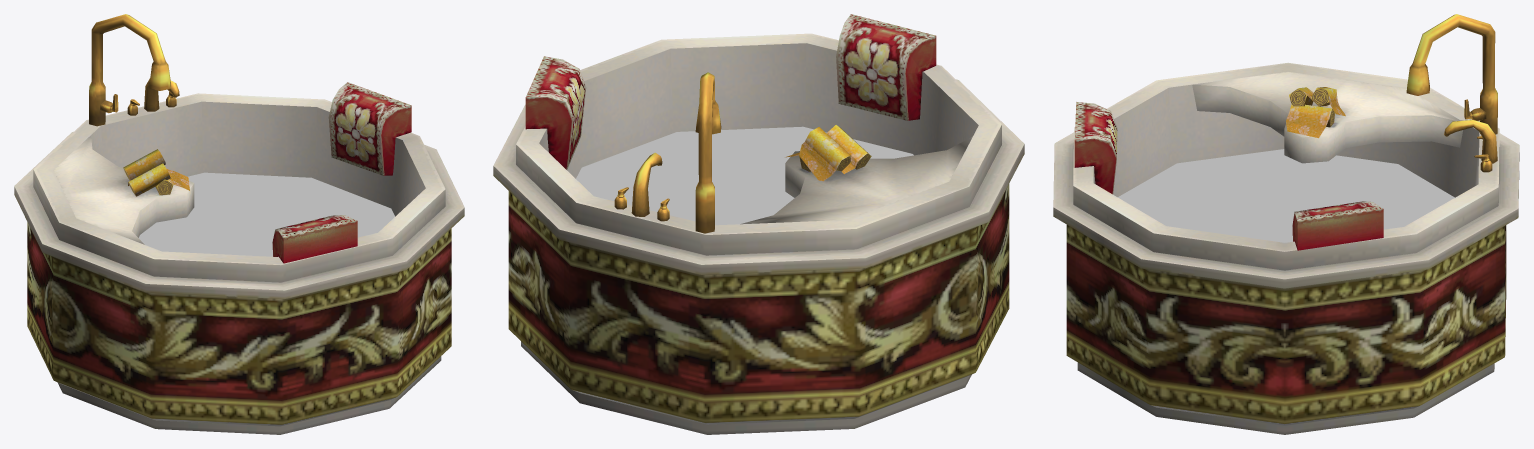
Rendered from furni_0201118_03.FBX.
The picture shows the model from 3 angles, left to right: view 1: azimuth 30°, elevation 25°; view 2: azimuth 150°, elevation 25°; view 3: azimuth 270°, elevation 25°; orthographic projection. The views are drawn at different scales.
Visible parts, largest first — view 1: furni_0201118_03; view 2: furni_0201118_03; view 3: furni_0201118_03.
Part boxes in pixels (x1,y1,x2,y2): furni_0201118_03: [14, 14, 464, 434]; furni_0201118_03: [493, 14, 1024, 434]; furni_0201118_03: [1053, 14, 1519, 434].
Bounding box in the file's own units: 163 × 114 × 155.
